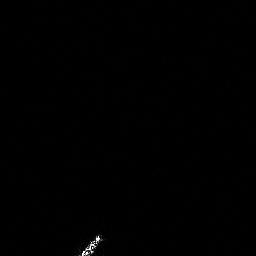ship: (76, 231, 105, 256)
